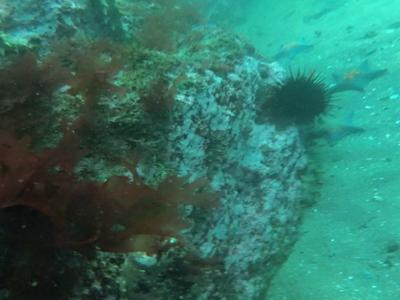urchin: (260, 69, 326, 124)
